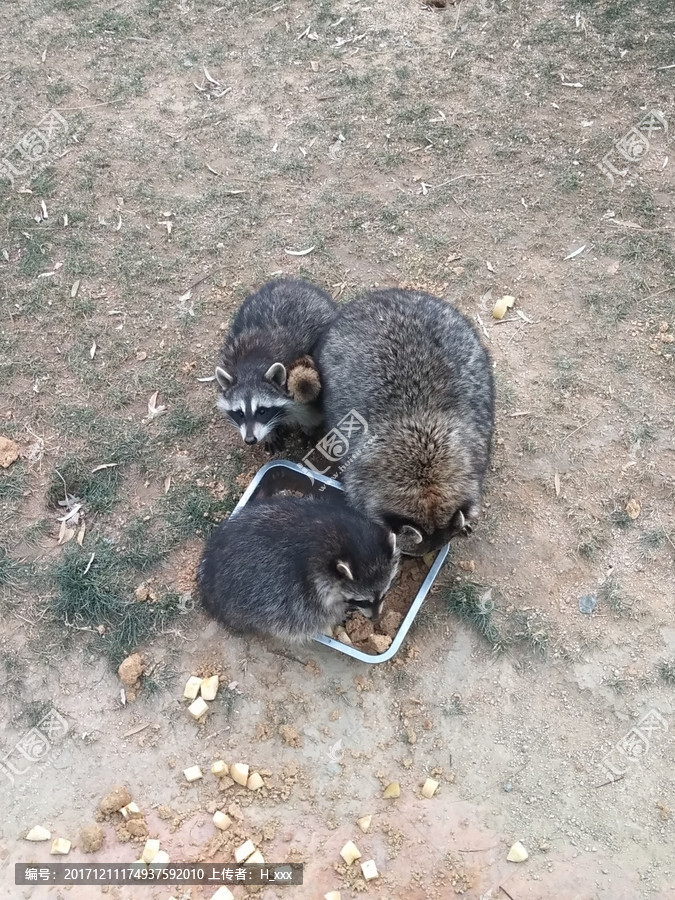raccoon: (318, 285, 507, 563), (182, 488, 404, 670), (202, 274, 340, 449)
